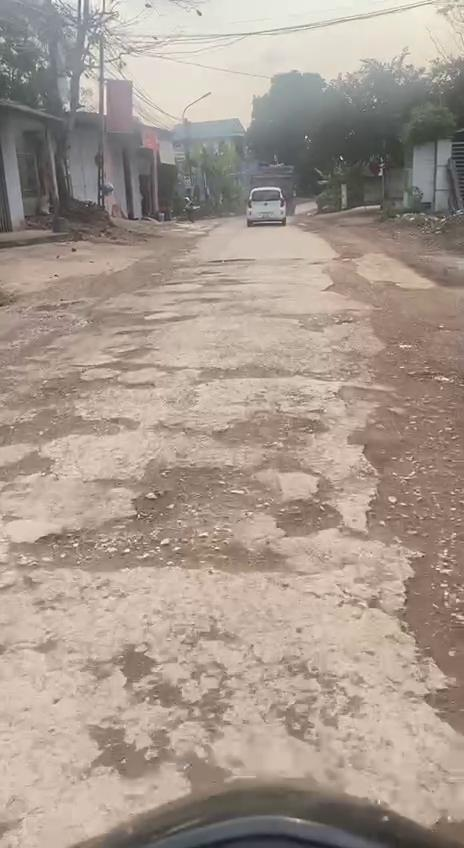pothole: (0, 461, 358, 576), (75, 648, 231, 808), (381, 554, 464, 750), (353, 428, 445, 556), (208, 400, 334, 465), (0, 403, 151, 450), (30, 361, 163, 401), (0, 442, 63, 484), (186, 360, 298, 383), (334, 378, 394, 420)
